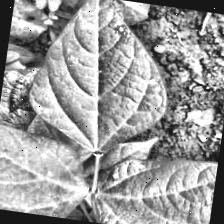Bean Rust: (27, 0, 182, 159), (98, 133, 220, 224), (0, 111, 96, 221)
